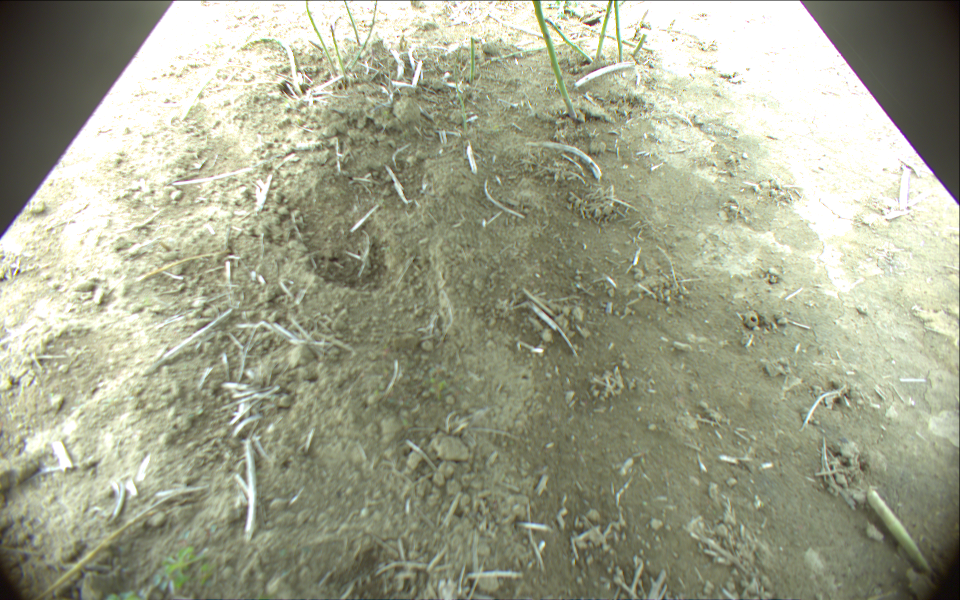aspa: (179, 24, 254, 122), (866, 489, 933, 575), (531, 1, 578, 119), (482, 35, 593, 66), (239, 39, 297, 92), (568, 18, 654, 53), (345, 1, 378, 73), (306, 1, 336, 73), (545, 18, 593, 63), (454, 44, 466, 132), (596, 1, 613, 63), (611, 1, 624, 63), (343, 1, 361, 45), (329, 24, 342, 80), (469, 35, 476, 85)
